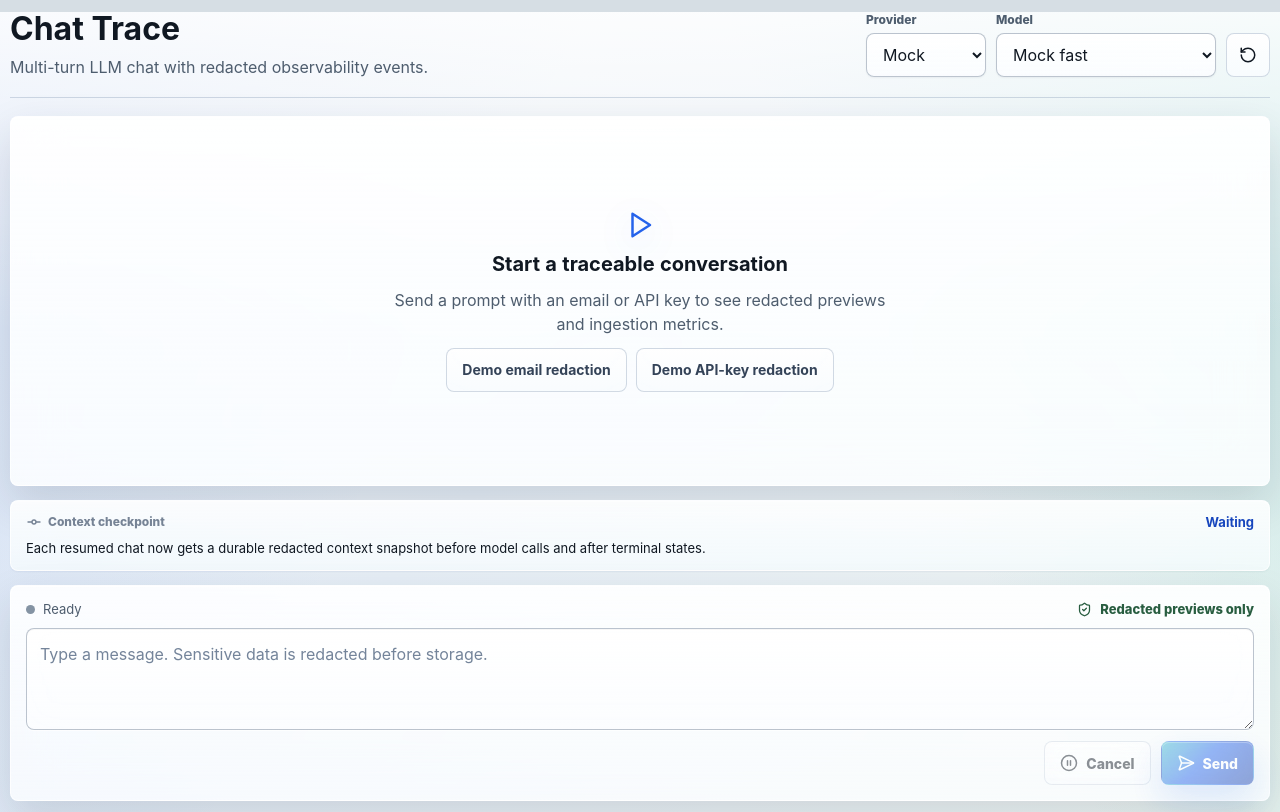
Scenario: ChatPage › shows a visible failed assistant card when streaming fails
Type "hello" into the text box with placeholder "Type a message. Sensitive data is redacted before storage." at (640, 679), box [26,628,1254,730]
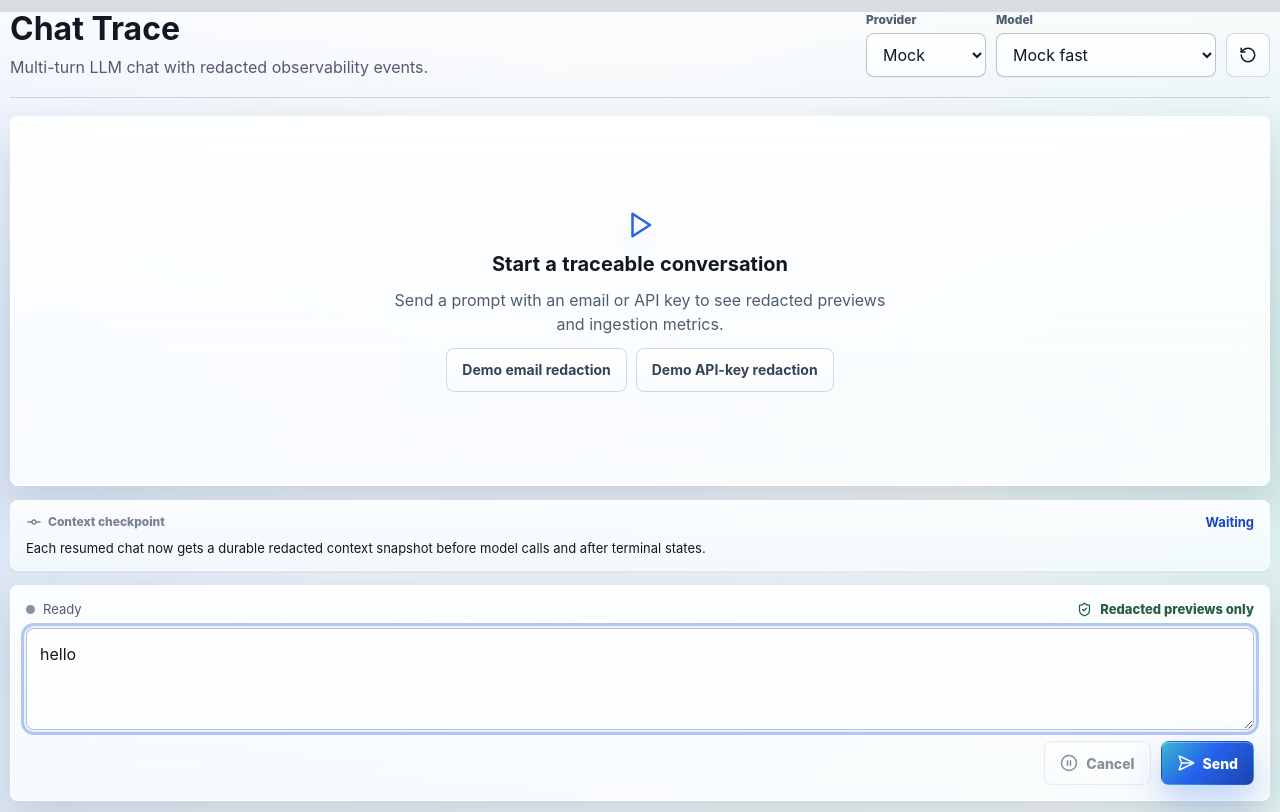
Click the button "Send" at (1207, 763), box [1160,741,1254,785]
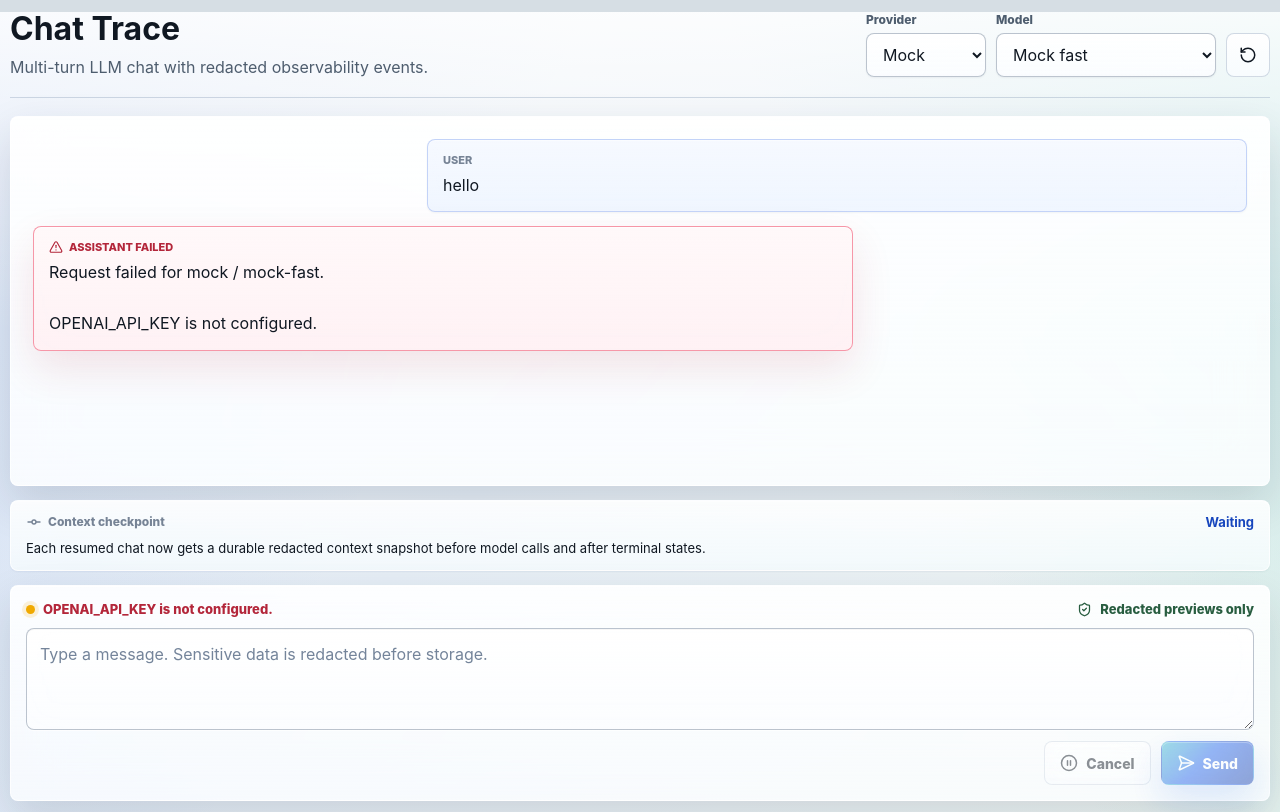
Expected: the text "assistant failed" is shown, [49,240,173,254]
Expected: the text "Request failed for mock / mock-fast" is shown, [49,262,324,333]
Expected: the text "OPENAI_API_KEY is not configured." is shown, [26,601,273,617]
